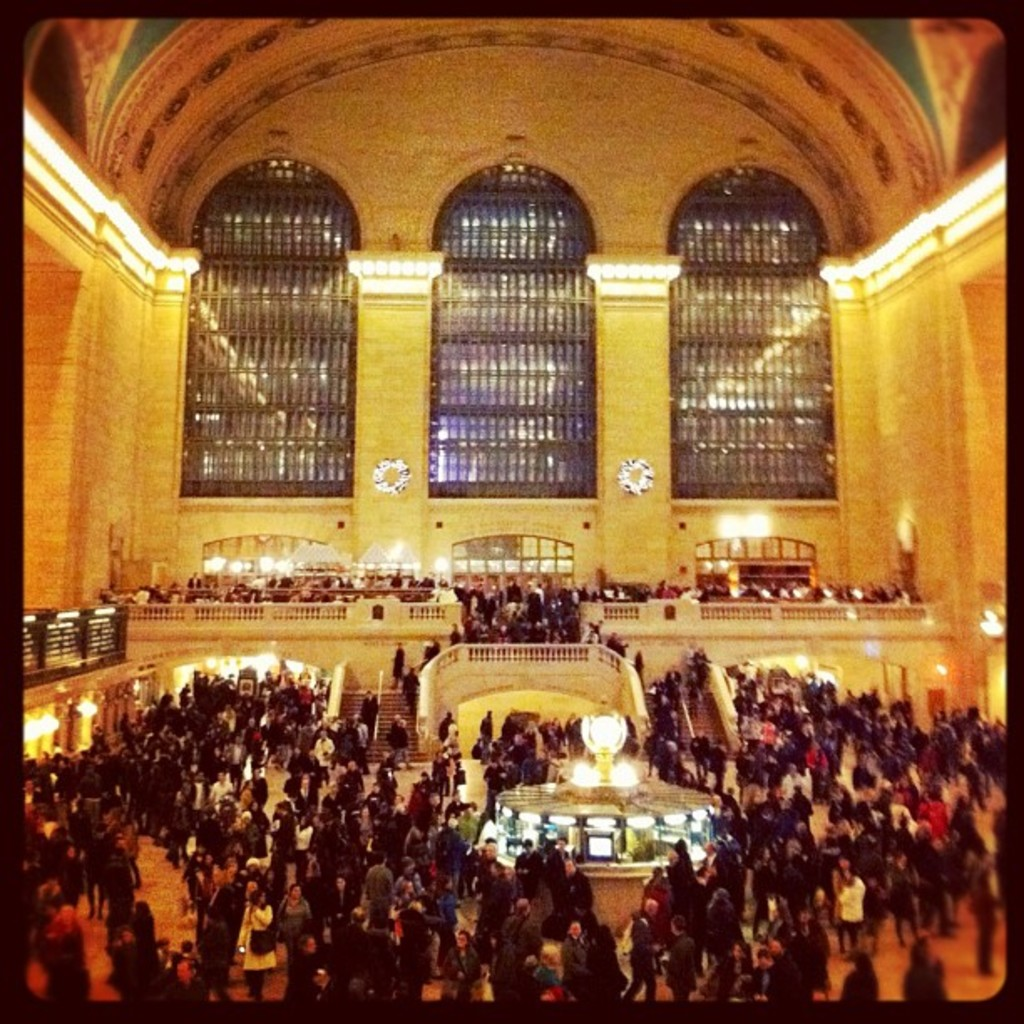Person: (20, 570, 1004, 999)
